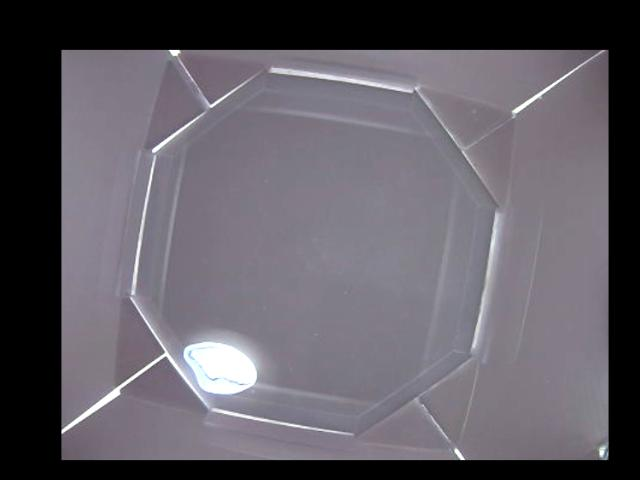Pebble: (184, 340, 258, 394)
